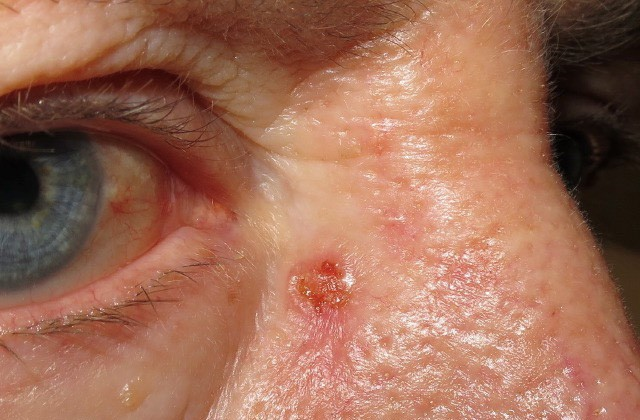Basa Cell Carcinoma: (275, 219, 375, 341)
